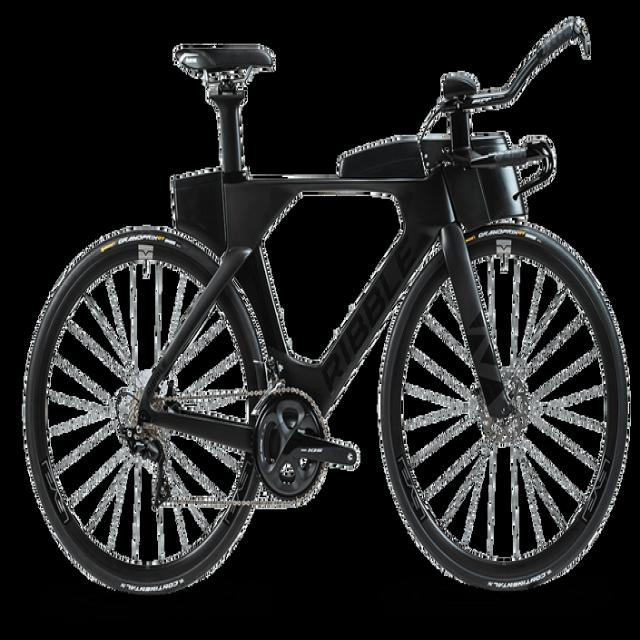TT-bike: (24, 20, 627, 600)
